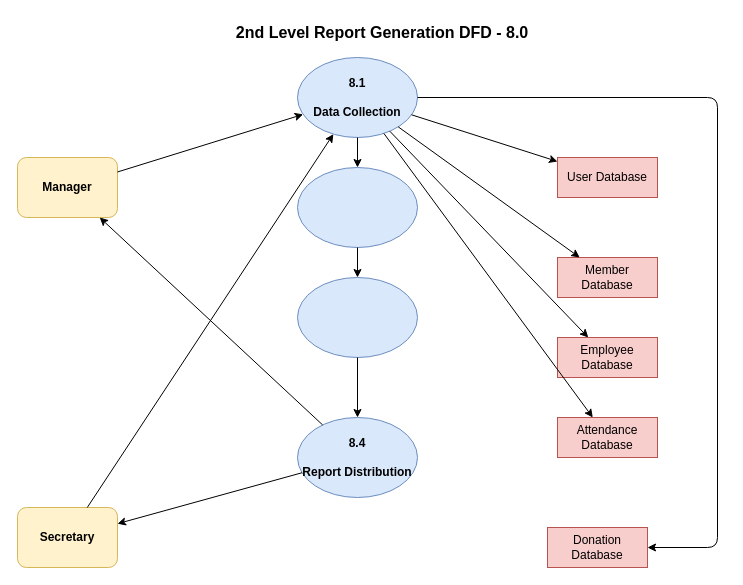
The diagram is 743 pixels wide and 585 high, and some of its shapes have lost their labels. The centre of each missing label's shape, as x and y in pixels:
8.2 Data Analysis: (357,207)
8.3 Report Formatting: (357,317)
